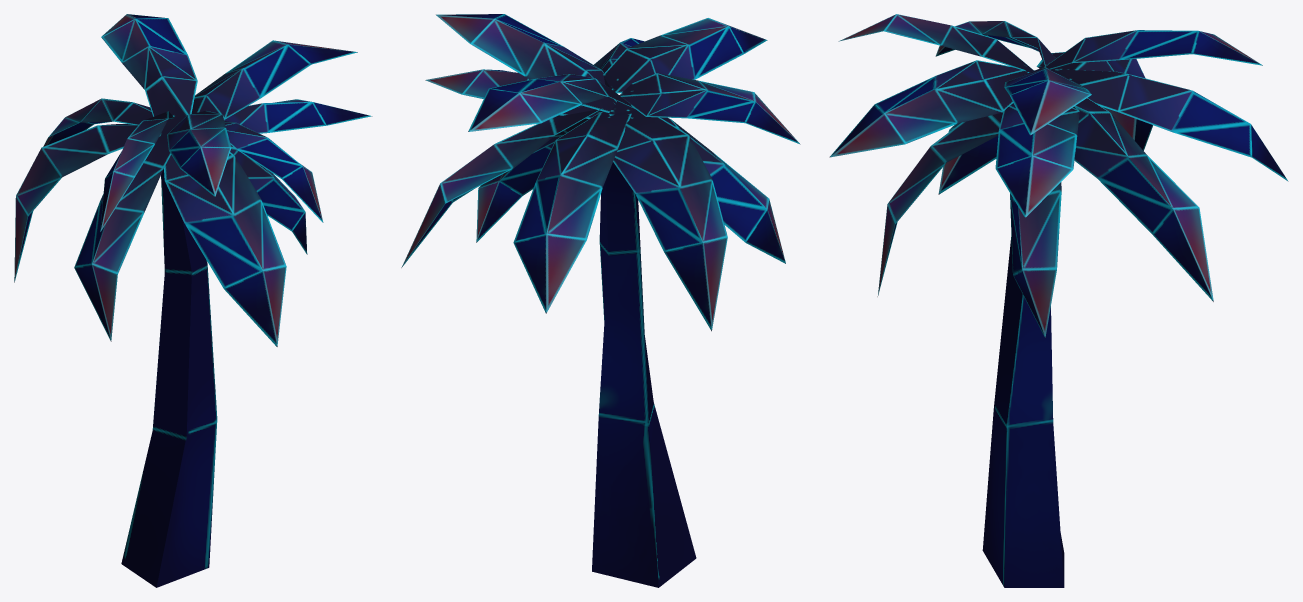
Rendered from urban_env_palm.gltf.
3 views of the same model, side by side, from view 1: azimuth 30°, elevation 25°; view 2: azimuth 150°, elevation 25°; view 3: azimuth 270°, elevation 25° (orthographic). The views are drawn at different scales.
Visible parts, largest first — view 1: urban_env_palm_glb; view 2: urban_env_palm_glb; view 3: urban_env_palm_glb.
Boxes of the visible parts, x1,y1,x2,y2 form: urban_env_palm_glb: [14, 14, 372, 587]; urban_env_palm_glb: [401, 14, 800, 587]; urban_env_palm_glb: [829, 14, 1288, 587].
Size of what is drawn, in the model's own units: 3.39 by 5.02 by 3.72.
1 material, 1 textured.
